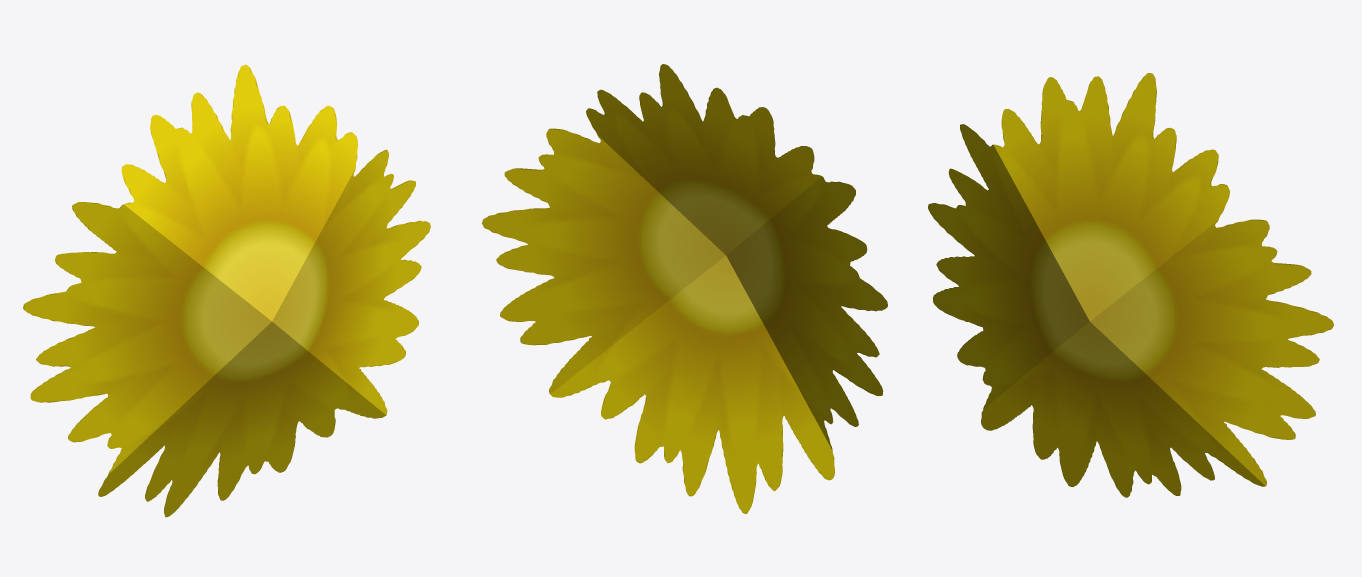
Rendered from planet_flower.fbx.
The picture shows the model from 3 angles, left to right: view 1: azimuth 30°, elevation 25°; view 2: azimuth 150°, elevation 25°; view 3: azimuth 330°, elevation 25°; orthographic projection.
Visible parts, largest first — view 1: Flower; view 2: Flower; view 3: Flower.
Boxes of the visible parts, x1=… form: Flower: x1=23, y1=64, x2=430, y2=517; Flower: x1=481, y1=64, x2=887, y2=513; Flower: x1=928, y1=73, x2=1333, y2=497.
Size of the model in its own units: 200 by 200 by 36.75.
